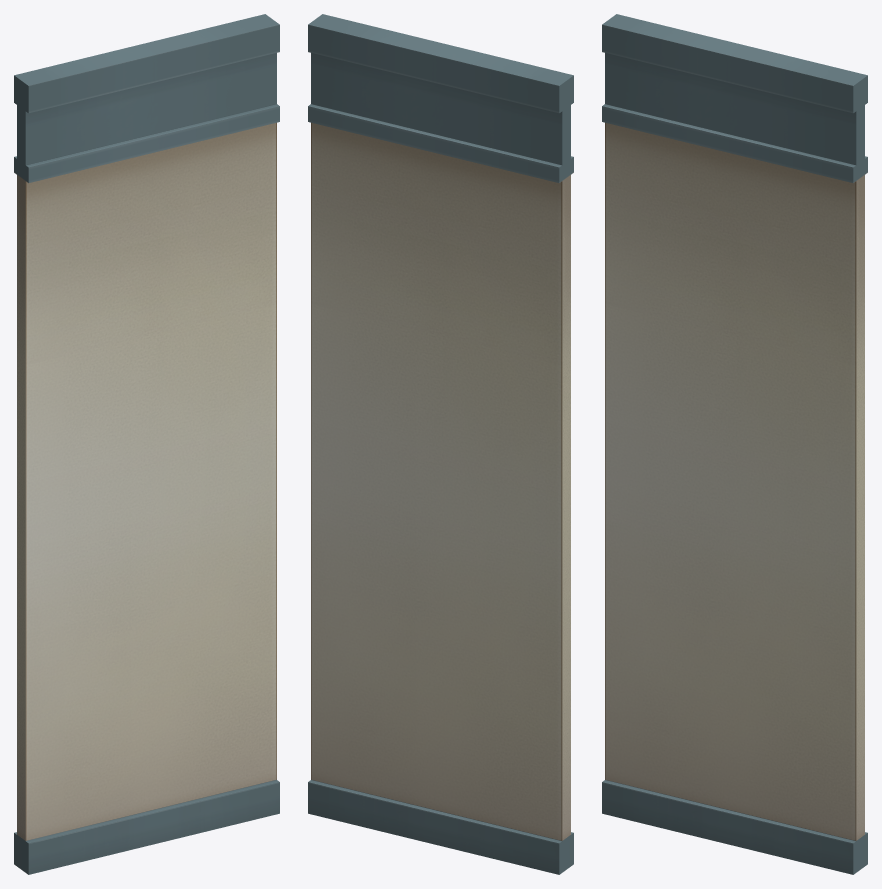
File: Wall_01_02.fbx
The picture shows the model from 3 angles, left to right: view 1: azimuth 30°, elevation 25°; view 2: azimuth 150°, elevation 25°; view 3: azimuth 330°, elevation 25°; orthographic projection.
Parts seen in each view (by area): view 1: wall_01_02; view 2: wall_01_02; view 3: wall_01_02.
Boxes of the visible parts, x1=… form: wall_01_02: x1=14, y1=14, x2=279, y2=874; wall_01_02: x1=308, y1=14, x2=573, y2=874; wall_01_02: x1=602, y1=14, x2=867, y2=874.
Bounding box in the file's own units: 100 × 300 × 10.
